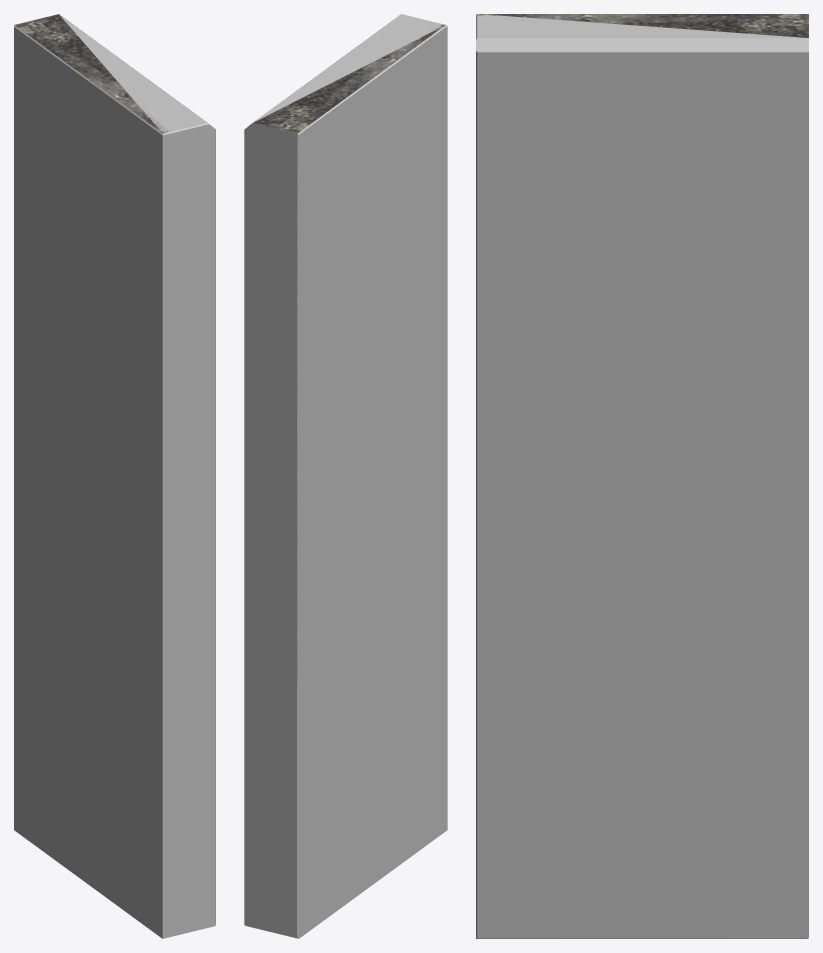
The model's file is SM_concrete_fence_00.fbx.
3 renders of one model, left to right at view 1: azimuth 30°, elevation 25°; view 2: azimuth 150°, elevation 25°; view 3: azimuth 270°, elevation 25°, orthographic. The views are drawn at different scales.
Parts seen in each view (by area): view 1: SM_concrete_fence_00_ConvexHulls, SM_concrete_fence_00; view 2: SM_concrete_fence_00_ConvexHulls, SM_concrete_fence_00; view 3: SM_concrete_fence_00_ConvexHulls, SM_concrete_fence_00.
Boxes of the visible parts, box(x1,y1,x2,y2) form: SM_concrete_fence_00_ConvexHulls: box(14, 14, 215, 938); SM_concrete_fence_00: box(15, 14, 167, 133); SM_concrete_fence_00_ConvexHulls: box(244, 14, 447, 938); SM_concrete_fence_00: box(248, 24, 445, 936); SM_concrete_fence_00_ConvexHulls: box(476, 14, 808, 938); SM_concrete_fence_00: box(477, 14, 808, 37).
Size of the model in its own units: 25.5 by 123 by 364.
Materials: 2 (1 with a texture image).
